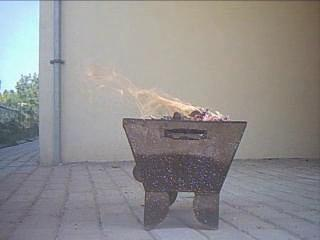fire: (108, 71, 234, 119)
